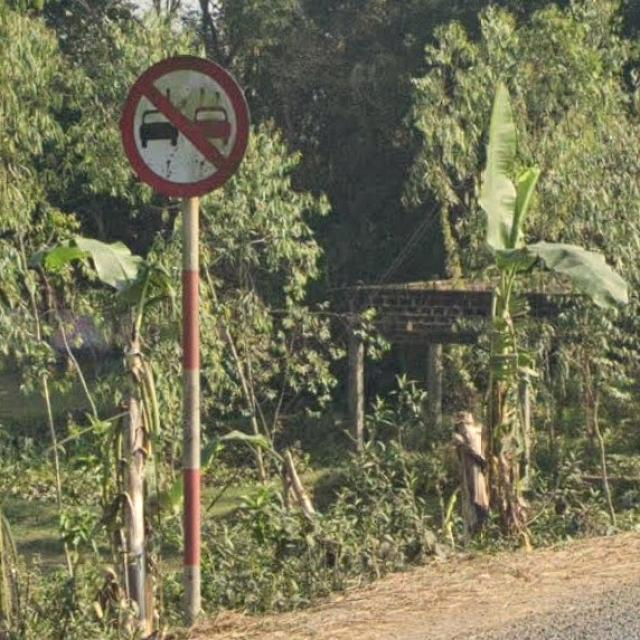Don-t-Overtracking: (118, 46, 256, 202)
